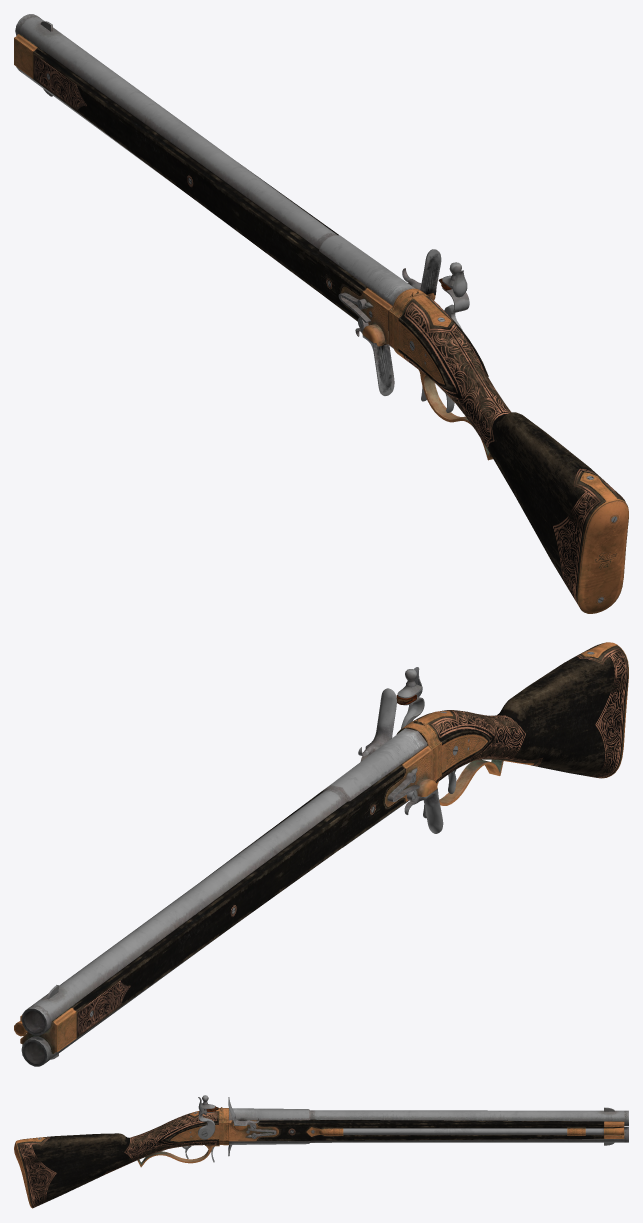
File: gewehr.glb
The picture shows the model from 3 angles, top to bottom: view 1: azimuth 30°, elevation 25°; view 2: azimuth 150°, elevation 25°; view 3: azimuth 270°, elevation 25°; orthographic projection. The views are drawn at different scales.
Parts seen in each view (by area): view 1: musket; view 2: musket; view 3: musket.
Part boxes in pixels (x1,y1,x2,y2): musket: (14,14,628,613); musket: (14,642,628,1066); musket: (14,1095,628,1208).
Size of the model in its own units: 0.0621 by 0.2127 by 1.01.
1 material, 1 textured.
